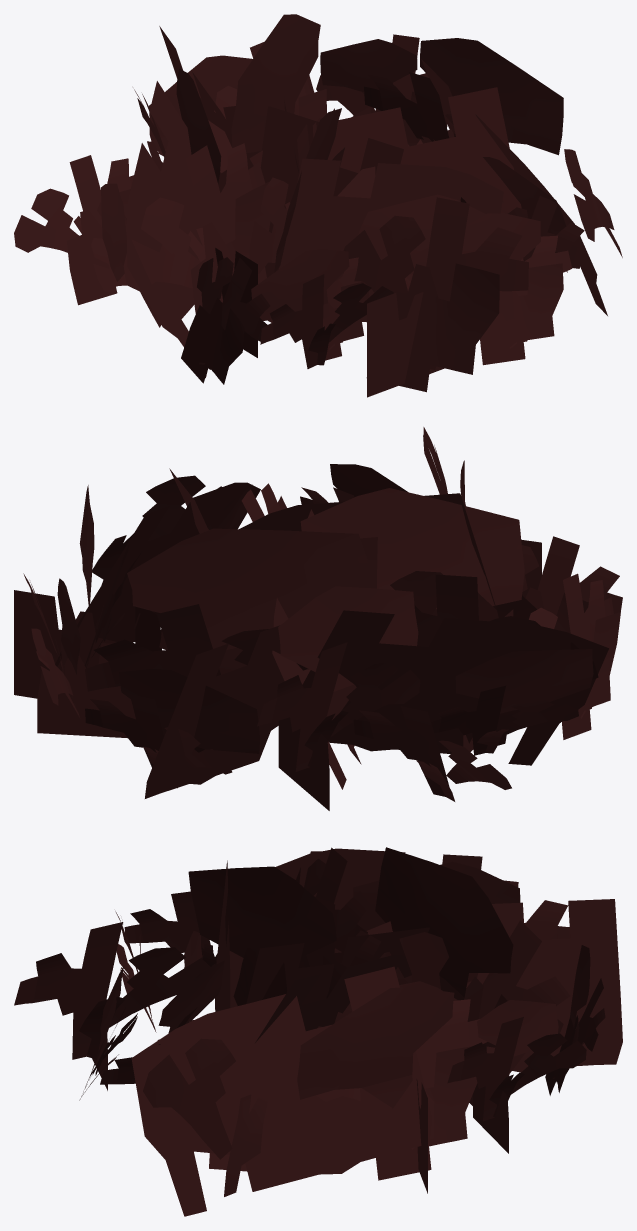
The model's file is SM_ocean_scatterPlant_01_C.fbx.
3 renders of one model, top to bottom at view 1: azimuth 30°, elevation 25°; view 2: azimuth 150°, elevation 25°; view 3: azimuth 270°, elevation 25°, orthographic. The views are drawn at different scales.
Visible parts, largest first — view 1: SM_ocean_scatterPlant_01_C_LOD0; view 2: SM_ocean_scatterPlant_01_C_LOD0; view 3: SM_ocean_scatterPlant_01_C_LOD0.
Boxes of the visible parts, x1,y1,x2,y2 form: SM_ocean_scatterPlant_01_C_LOD0: (14,14,622,397); SM_ocean_scatterPlant_01_C_LOD0: (14,427,622,810); SM_ocean_scatterPlant_01_C_LOD0: (14,847,622,1216).
Size of what is drawn, in the model's own units: 32.2 by 34.07 by 15.35.
